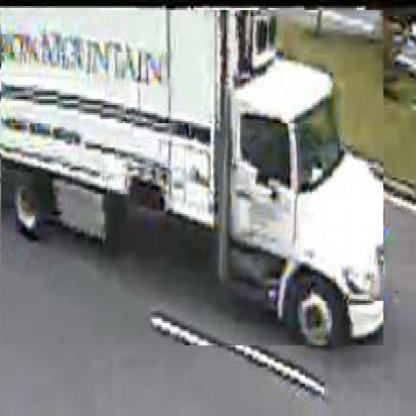truck: (2, 11, 386, 348)
